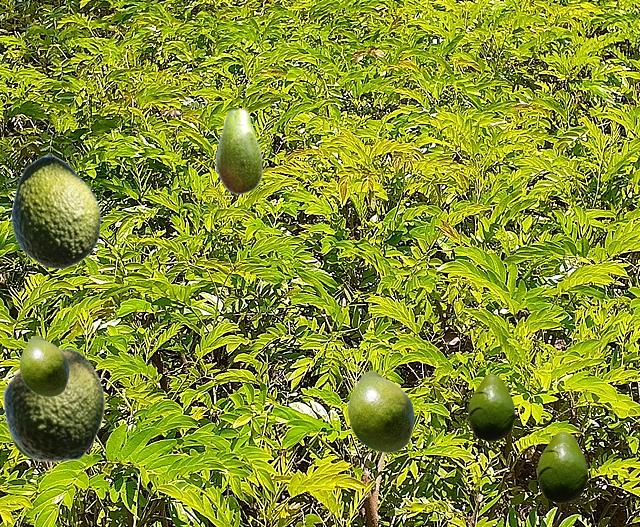avocado: (2, 348, 104, 461), (10, 155, 100, 268), (347, 370, 413, 452), (215, 107, 262, 194), (537, 431, 587, 502), (468, 374, 514, 440), (19, 335, 68, 396), (12, 441, 34, 460)
